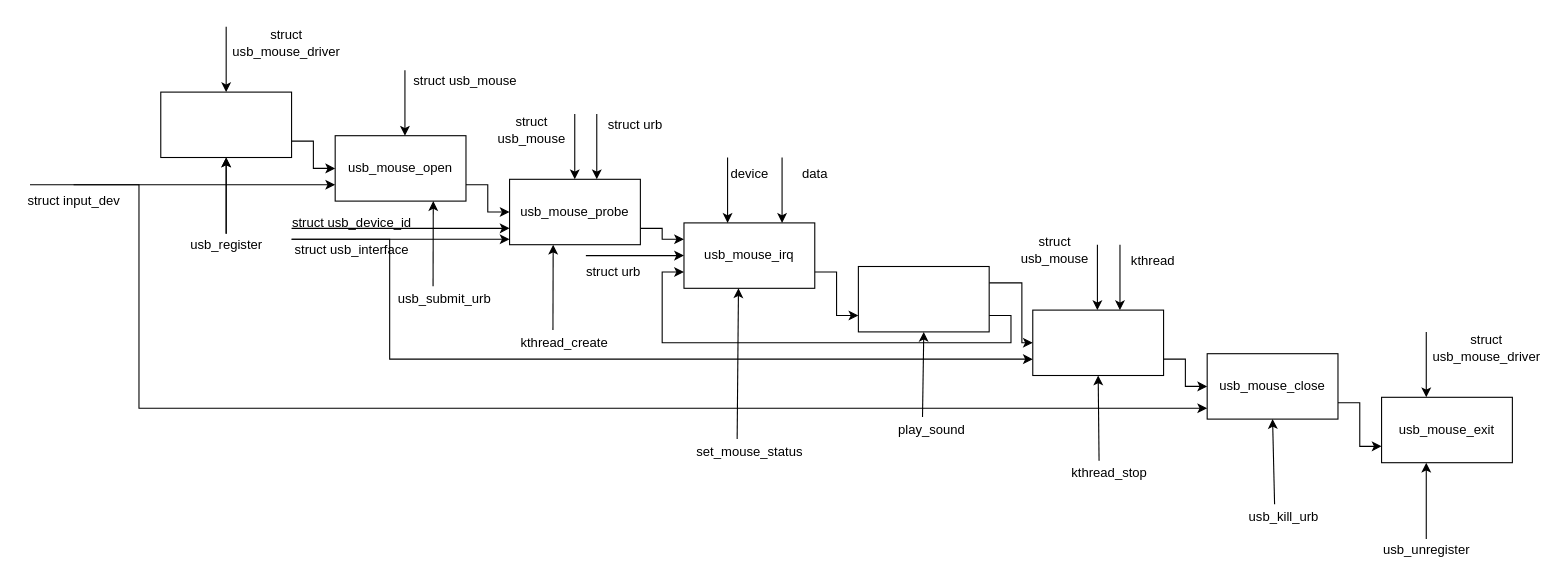
This 1564x580 diagram has some shape labels left out. The shapes that lost their labels are listed below. From the top down, each one's centre as x and y in pixels, then its label:
At (x=226, y=124): "usb_mouse_init".
At (x=923, y=298): "play_handler".
At (x=1098, y=342): "usb_mouse_disconnect".
